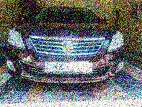car: (6, 6, 125, 84)
